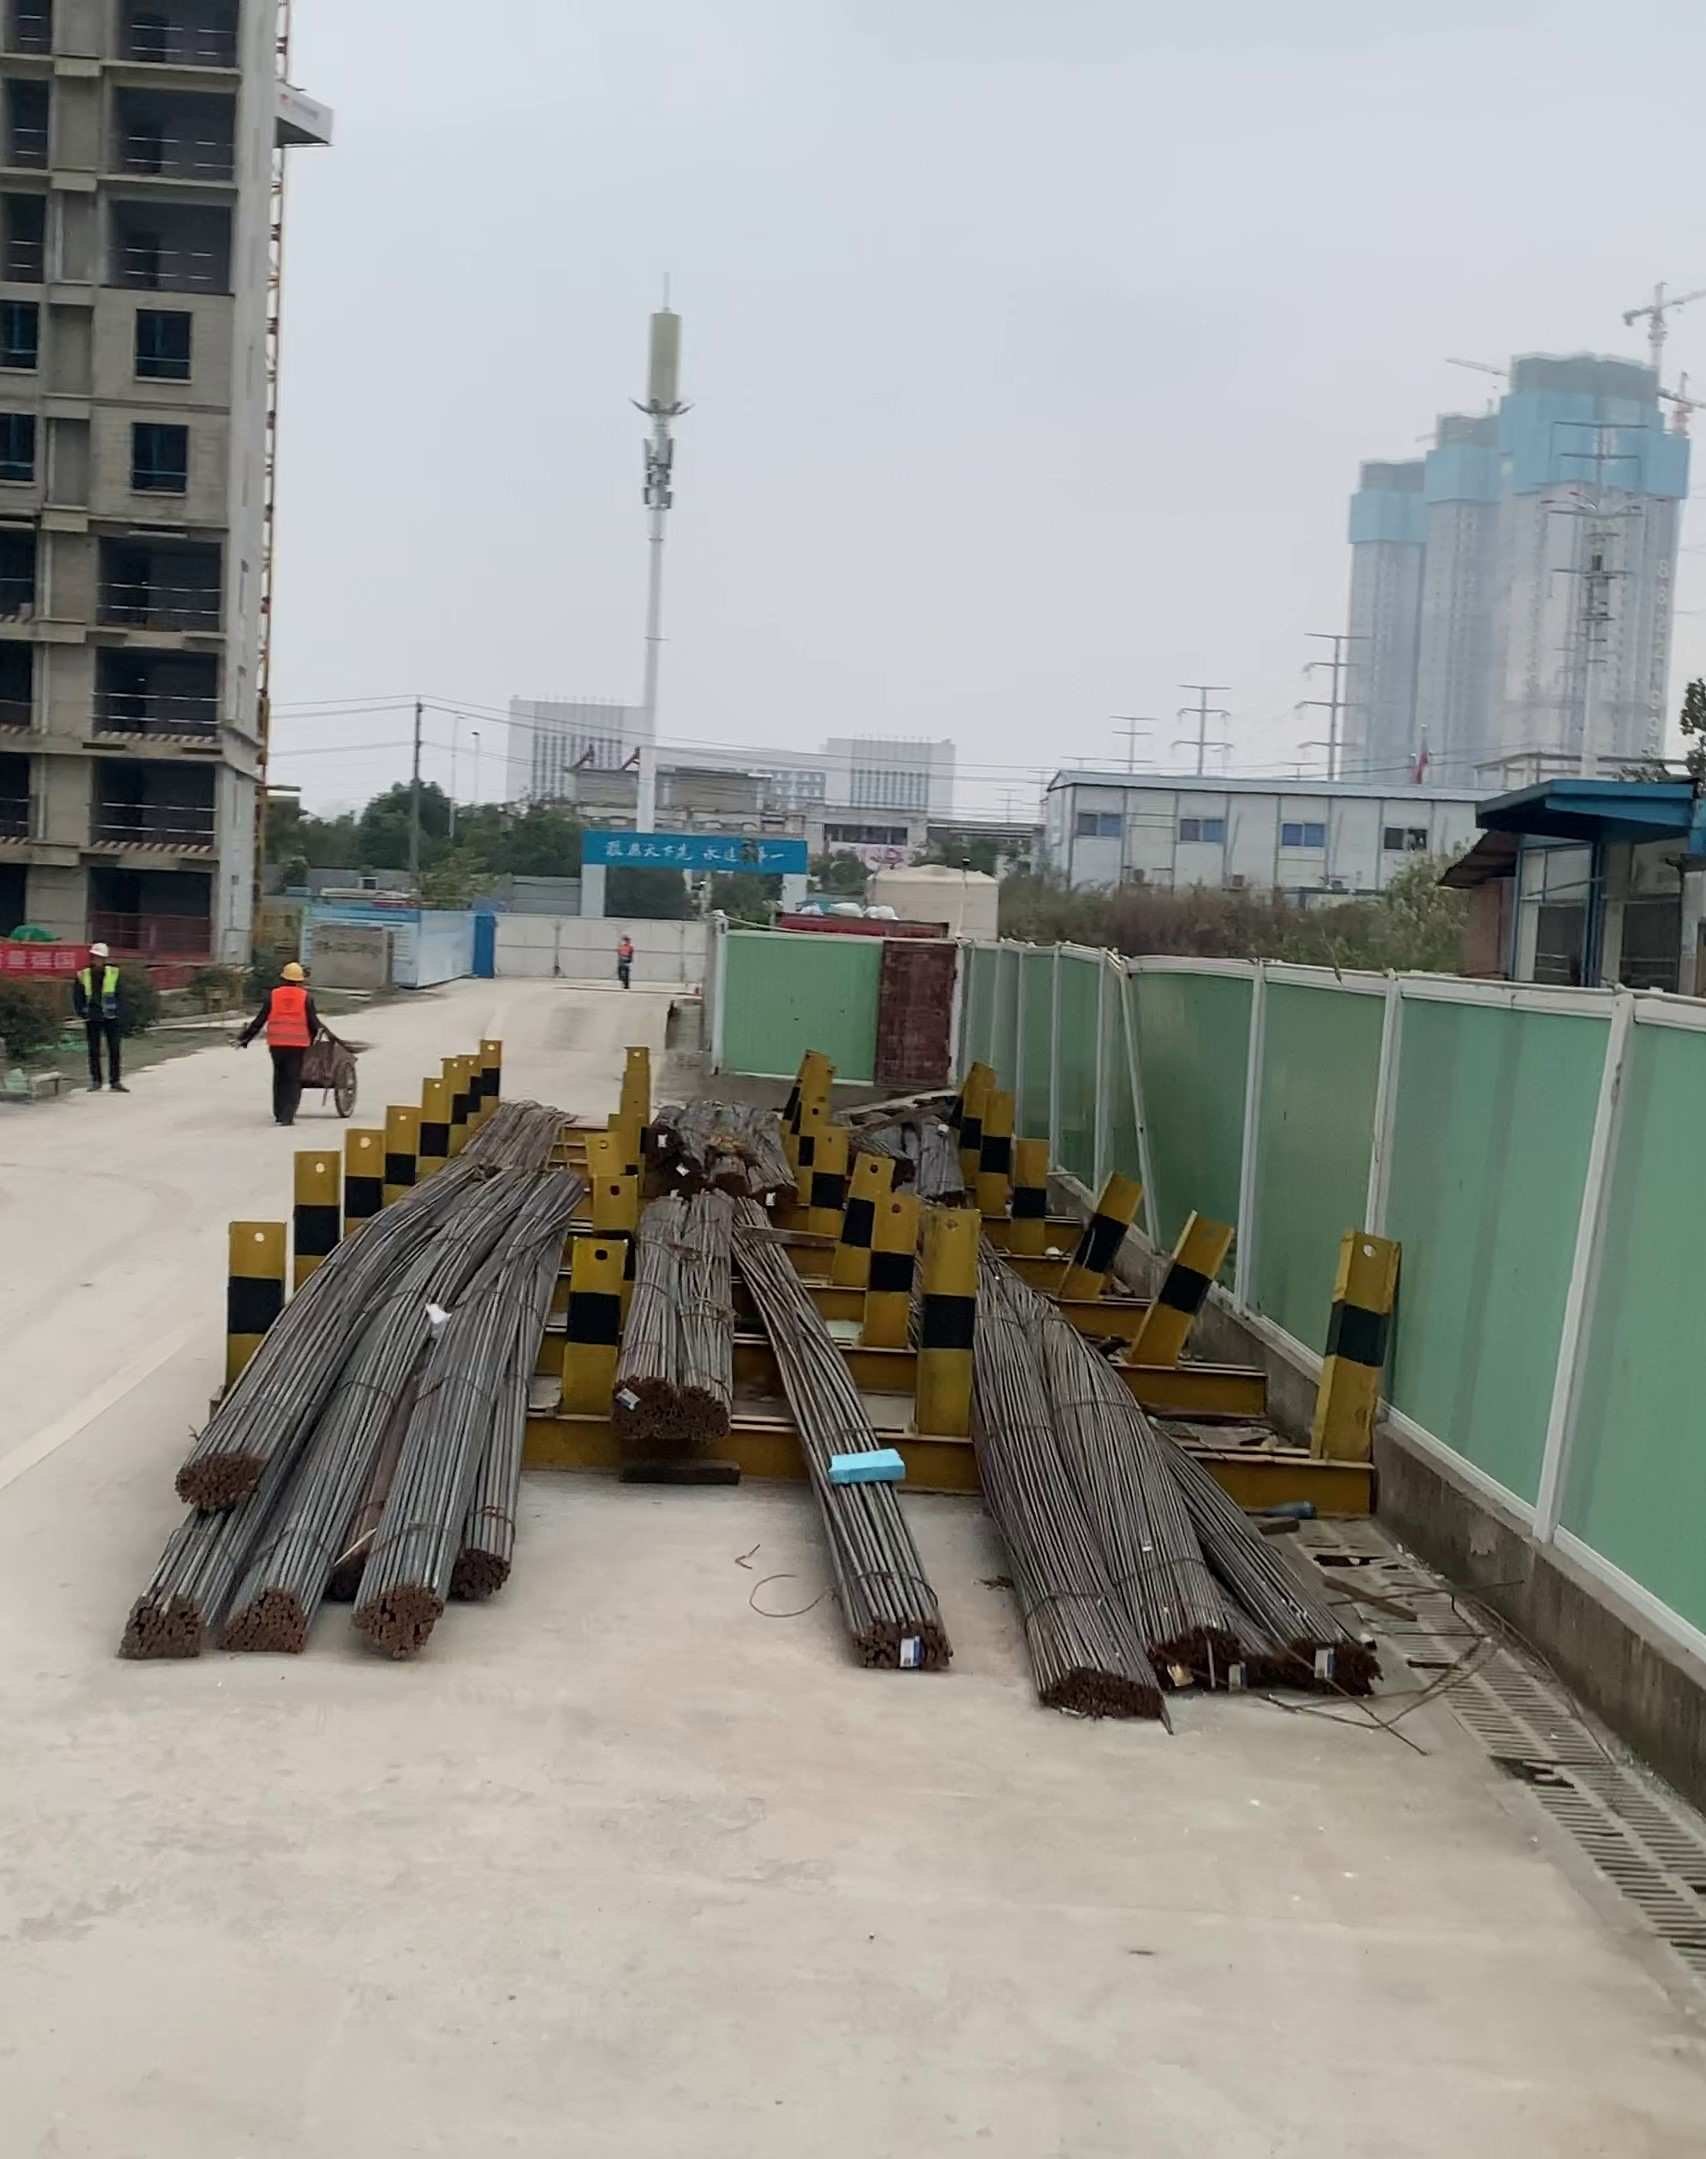rebar: (1040, 1653, 1167, 1738), (848, 1602, 963, 1688), (354, 1582, 445, 1661), (1284, 1623, 1375, 1695), (182, 1442, 263, 1511), (231, 1593, 314, 1658), (116, 1591, 198, 1653), (608, 1376, 681, 1428), (1170, 1625, 1235, 1684), (680, 1379, 734, 1449), (448, 1540, 504, 1600), (333, 1547, 373, 1586)
